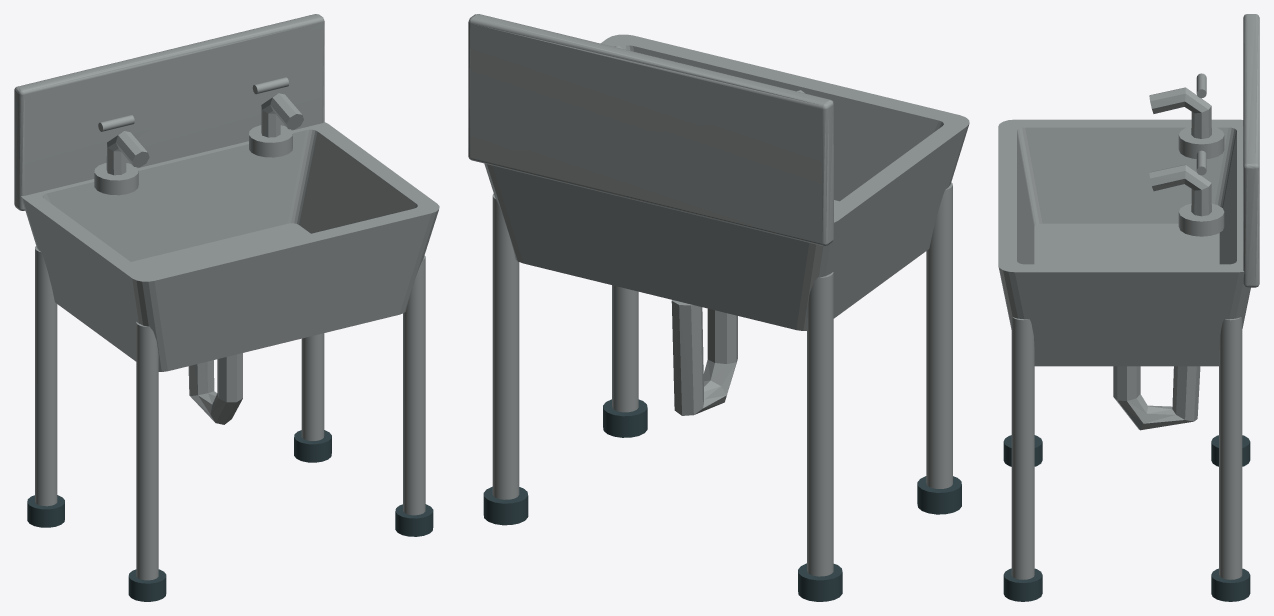
File: 10_starter_steel_sink.glb
The picture shows the model from 3 angles, left to right: view 1: azimuth 30°, elevation 25°; view 2: azimuth 150°, elevation 25°; view 3: azimuth 270°, elevation 25°; orthographic projection. The views are drawn at different scales.
Visible parts, largest first — view 1: 10_starter_steel_sink__Static; view 2: 10_starter_steel_sink__Static; view 3: 10_starter_steel_sink__Static.
Boxes of the visible parts, <box> form: 10_starter_steel_sink__Static: <box>14,14,439,601</box>; 10_starter_steel_sink__Static: <box>468,14,969,601</box>; 10_starter_steel_sink__Static: <box>998,14,1259,601</box>.
Bounding box in the file's own units: 0.87 × 1.16 × 0.63.
